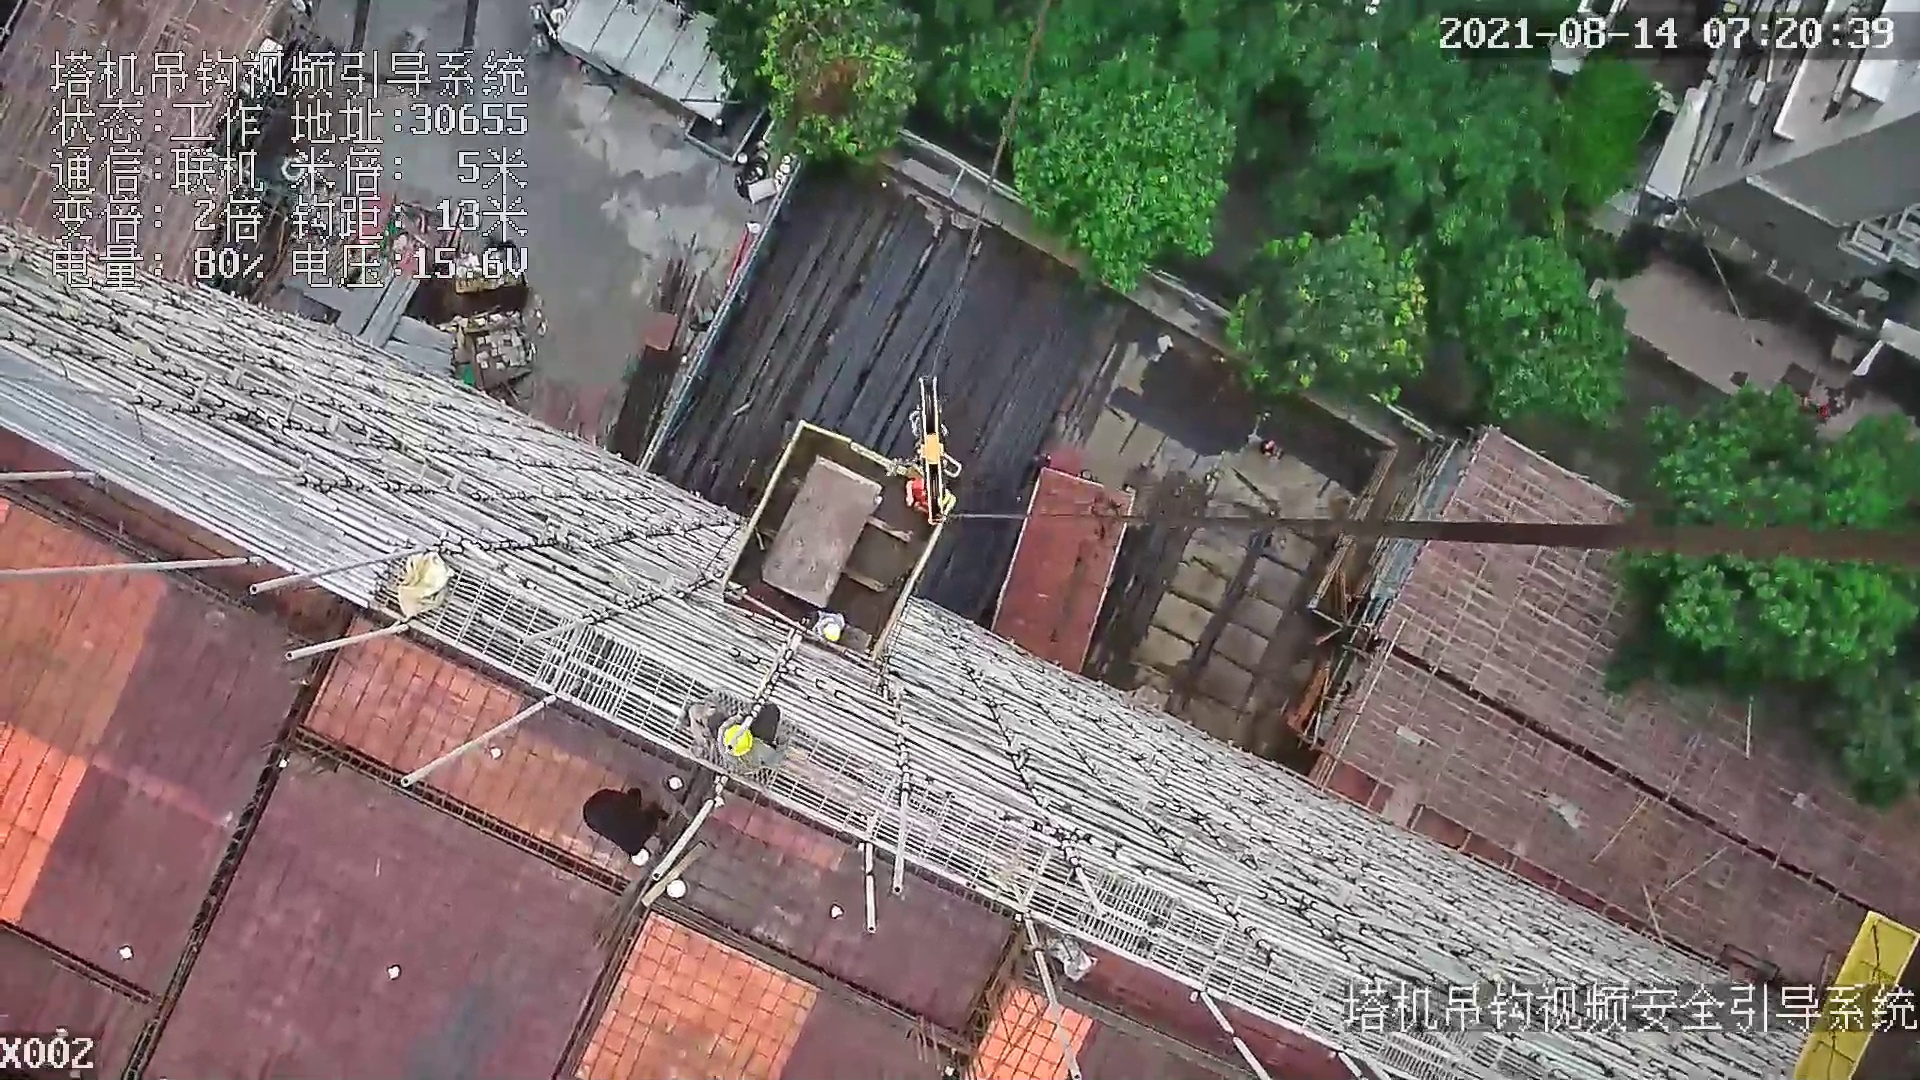helmet: (726, 724, 753, 756)
hook: (913, 373, 967, 533)
person: (576, 783, 673, 865), (727, 697, 783, 785)
